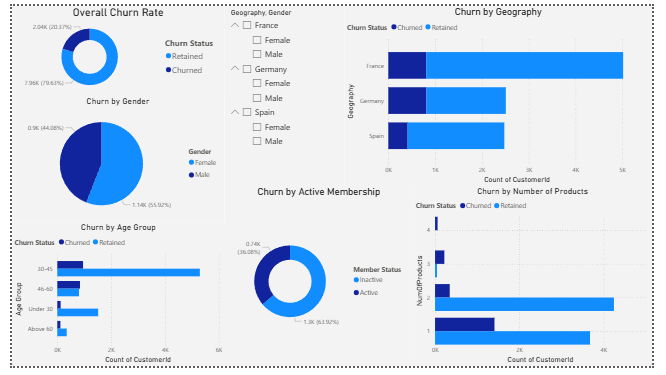

Layout of this report page (visuals, bound fields, positions):
{"tool":"powerbi","page":{"name":"Page 1","canvas":[1280,720],"ordinal":0},"visuals":[{"type":"donutChart","title":"Overall Churn Rate","fields":{"Category":["churn_analysis churn.Churn Status"],"Y":["CountNonNull(churn_analysis churn.CustomerId)"]},"box":[0,0,425,180],"z":0},{"type":"barChart","title":"Churn by Geography","fields":{"Category":["churn_analysis churn.Geography"],"Series":["churn_analysis churn.Churn Status"],"Y":["CountNonNull(churn_analysis churn.CustomerId)"]},"box":[665,0,615,360],"z":1000},{"type":"pieChart","title":"Churn by Gender","fields":{"Y":["CountNonNull(churn_analysis churn.CustomerId)"],"Category":["churn_analysis churn.Gender"]},"box":[0,180,424,252],"z":2000},{"type":"clusteredBarChart","title":"Churn by Age Group","fields":{"Series":["churn_analysis churn.Churn Status"],"Y":["CountNonNull(churn_analysis churn.CustomerId)"],"Category":["churn_analysis churn.Age Group"]},"box":[0,432,426,288],"z":3000},{"type":"donutChart","title":"Churn by Active Membership","fields":{"Y":["CountNonNull(churn_analysis churn.CustomerId)"],"Category":["churn_analysis churn.Member Status "]},"box":[425,360,377.5,360],"z":4000},{"type":"clusteredBarChart","title":"Churn by Number of Products","fields":{"Category":["churn_analysis churn.NumOfProducts"],"Y":["CountNonNull(churn_analysis churn.CustomerId)"],"Series":["churn_analysis churn.Churn Status"]},"box":[802.5,360,477.5,360],"z":5000},{"type":"slicer","fields":{"Values":["churn_analysis churn.Geography","churn_analysis churn.Gender"]},"box":[425,0,240,360],"z":6000}]}

Visuals, with their boxes in screenshot pixels (x1, y1, x2, y2), scaled from the page's 1280x720 canvas onto the 666x375 screenshot:
"Overall Churn Rate" donutChart: bbox=[0, 0, 221, 94]
"Churn by Geography" barChart: bbox=[346, 0, 665, 188]
"Churn by Gender" pieChart: bbox=[0, 94, 221, 225]
"Churn by Age Group" clusteredBarChart: bbox=[0, 225, 222, 374]
"Churn by Active Membership" donutChart: bbox=[221, 188, 418, 374]
"Churn by Number of Products" clusteredBarChart: bbox=[418, 188, 665, 374]
slicer - churn_analysis churn.Geography x churn_analysis churn.Gender: bbox=[221, 0, 346, 188]
